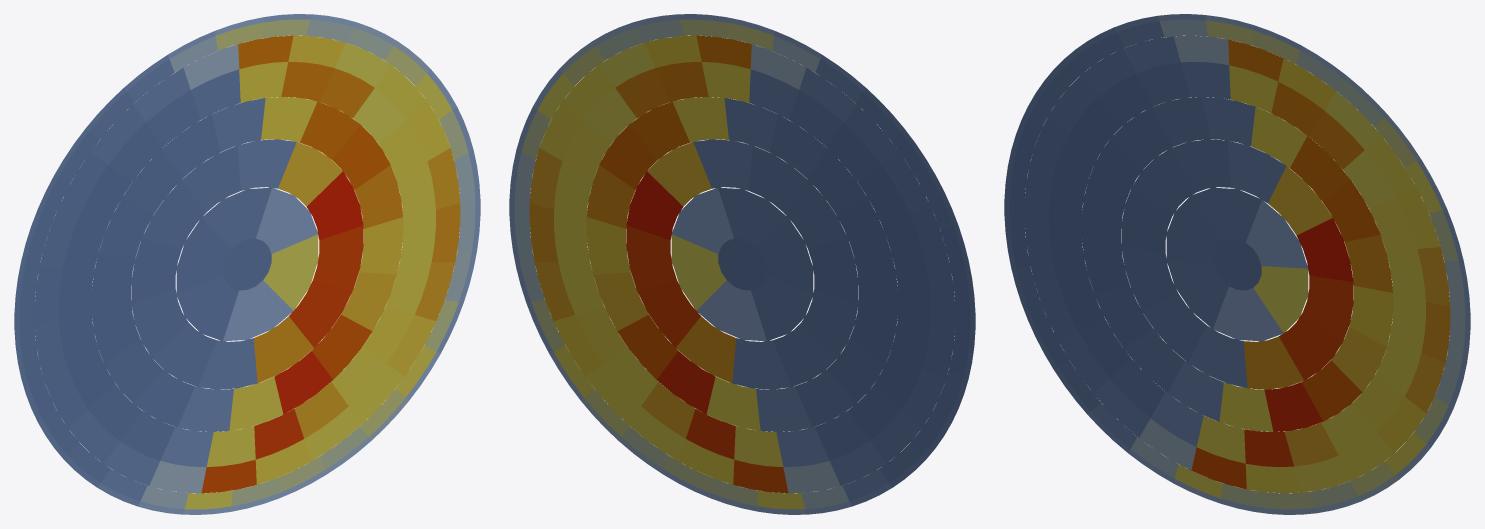
Rendered from ortho.obj.
3 views of the same model, side by side, from view 1: azimuth 30°, elevation 25°; view 2: azimuth 150°, elevation 25°; view 3: azimuth 330°, elevation 25° (orthographic).
Parts seen in each view (by area): view 1: object_1; view 2: object_1; view 3: object_1.
Boxes of the visible parts, x1,y1,x2,y2 form: object_1: (14, 14, 480, 514); object_1: (509, 14, 975, 514); object_1: (1004, 14, 1470, 514).
Size of the model in its own units: 200 by 200 by 0.
